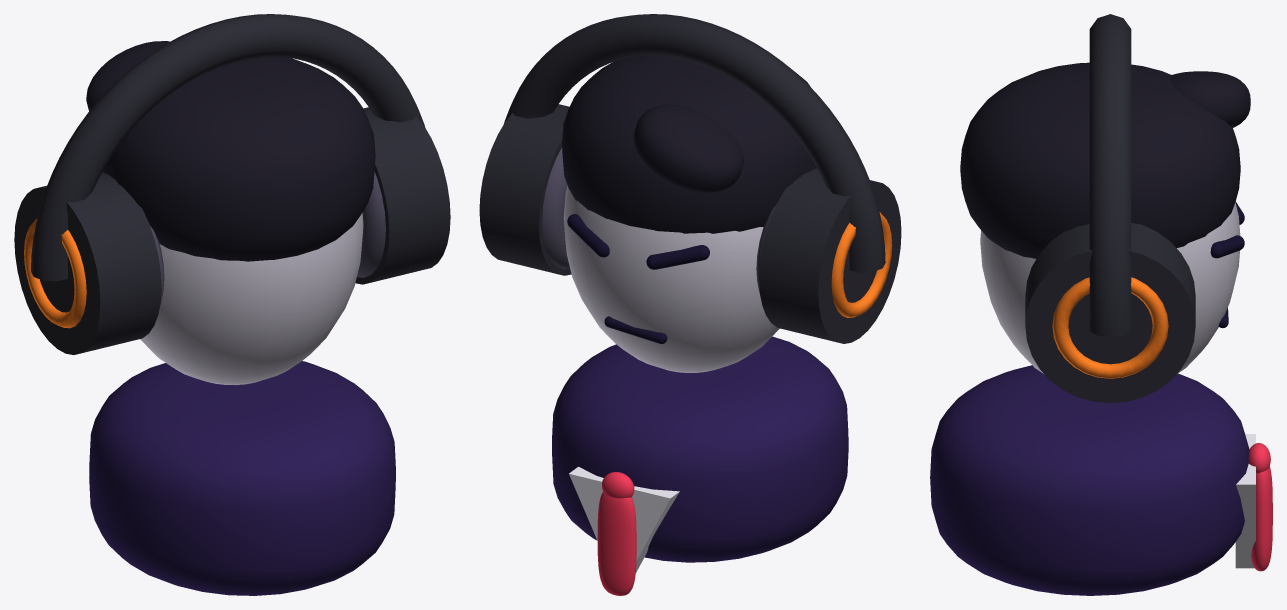
The model's file is Boss2_NoiseCanceller.obj.
3 views of the same model, side by side, from view 1: azimuth 30°, elevation 25°; view 2: azimuth 150°, elevation 25°; view 3: azimuth 270°, elevation 25° (orthographic). The views are drawn at different scales.
Visible parts, largest first — view 1: Collar, Headphone, Hair, Head, LED, Pads; view 2: Collar, Headphone, Hair, Head, Tie, Shirt, Pads, Face_Dark, LED; view 3: Collar, Hair, Headphone, Head, LED, Tie, Shirt, Face_Dark.
Part boxes in pixels (left/top/right/bottom): Collar: left=89, top=361, right=395, bottom=595; Headphone: left=14, top=14, right=450, bottom=354; Hair: left=86, top=41, right=375, bottom=261; Head: left=140, top=212, right=363, bottom=385; LED: left=24, top=219, right=86, bottom=328; Pads: left=150, top=172, right=385, bottom=307; Collar: left=552, top=336, right=848, bottom=562; Headphone: left=479, top=14, right=901, bottom=343; Hair: left=562, top=55, right=816, bottom=233; Head: left=563, top=185, right=779, bottom=372; Tie: left=597, top=472, right=636, bottom=595; Shirt: left=569, top=466, right=679, bottom=572; Pads: left=542, top=148, right=776, bottom=298; Face_Dark: left=567, top=214, right=709, bottom=343; LED: left=831, top=212, right=892, bottom=317; Collar: left=930, top=365, right=1249, bottom=595; Hair: left=960, top=62, right=1250, bottom=258; Headphone: left=1025, top=14, right=1195, bottom=403; Head: left=980, top=202, right=1240, bottom=373; LED: left=1052, top=277, right=1168, bottom=378; Tie: left=1248, top=443, right=1272, bottom=571; Shirt: left=1235, top=434, right=1255, bottom=568; Face_Dark: left=1210, top=202, right=1244, bottom=328.
Size of the model in its own units: 0.454 by 0.587 by 0.342.
